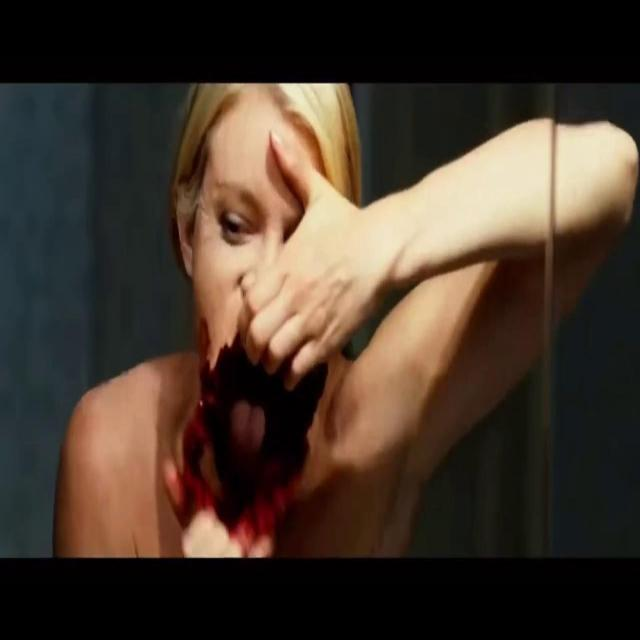flood: (178, 298, 306, 564)
